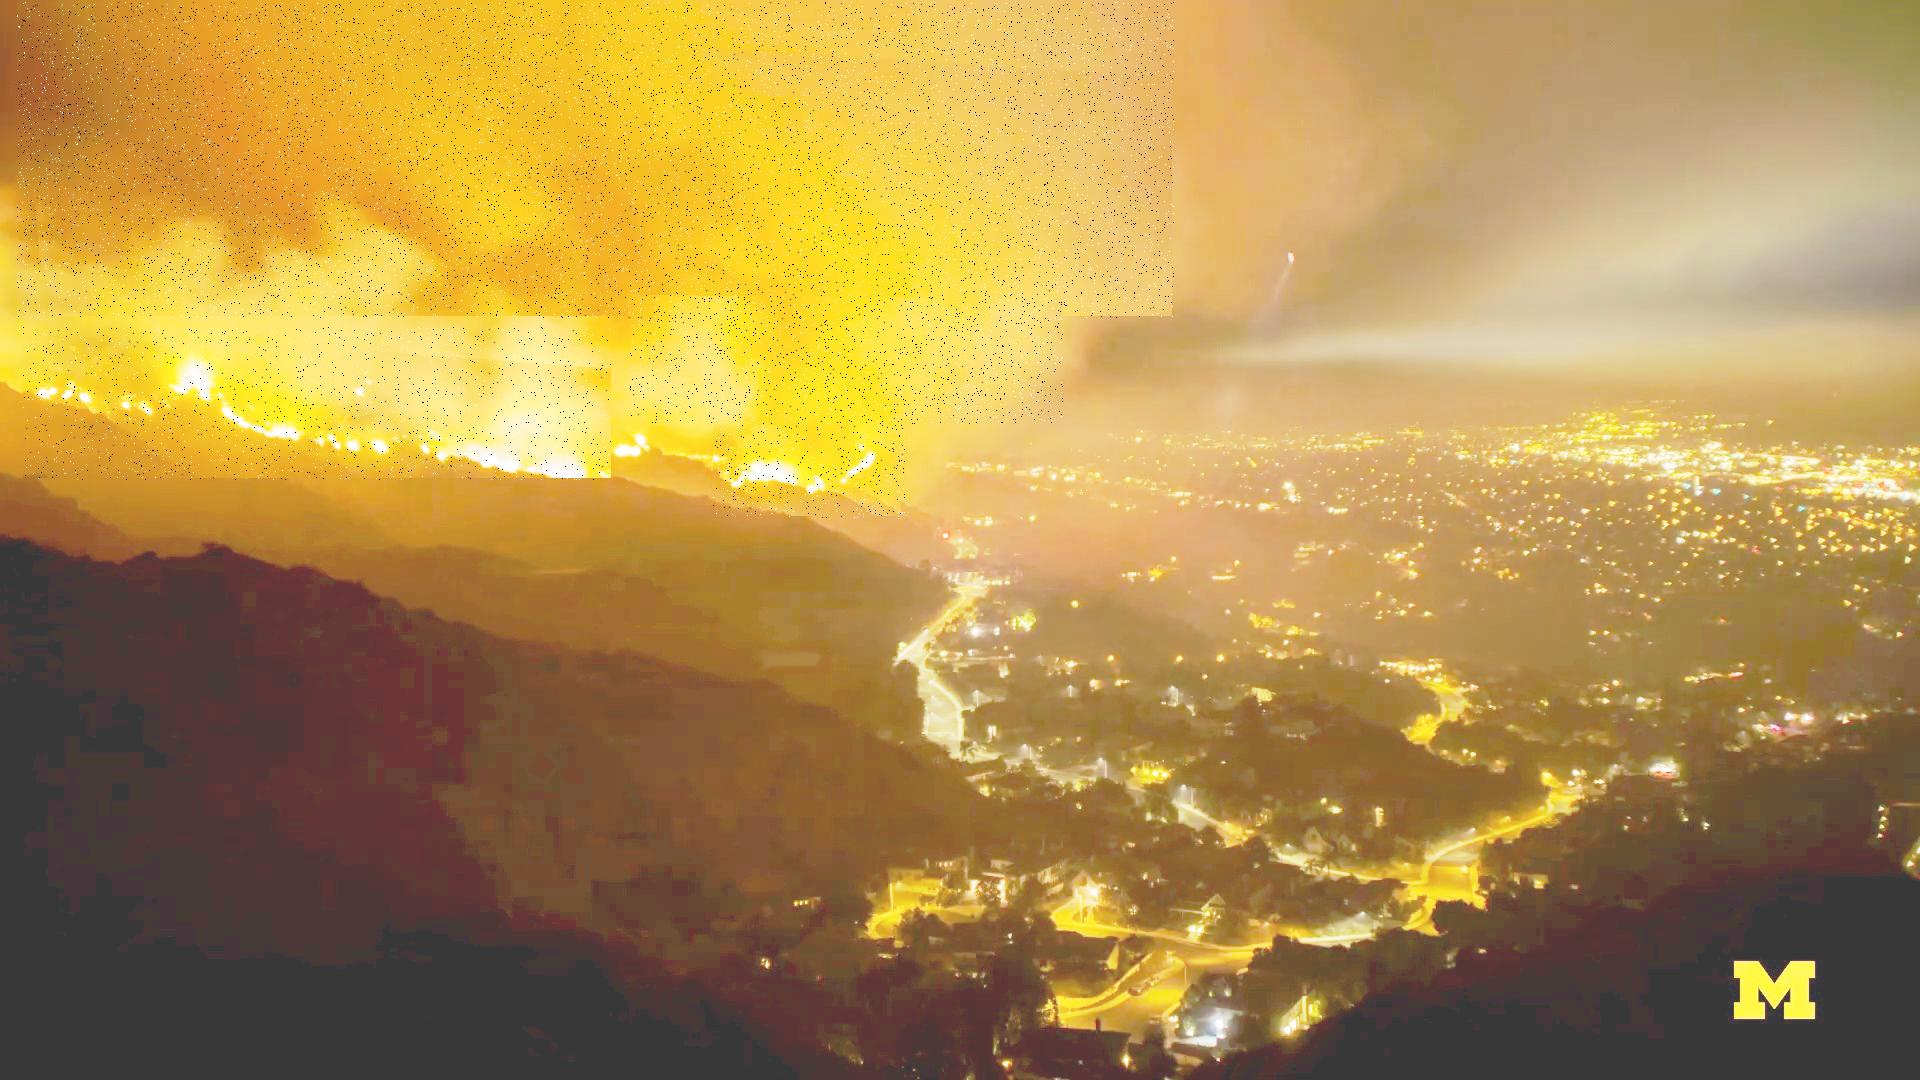fire: (22, 328, 611, 481), (713, 426, 905, 518)
smoke: (18, 3, 1175, 319), (630, 298, 1063, 425)
